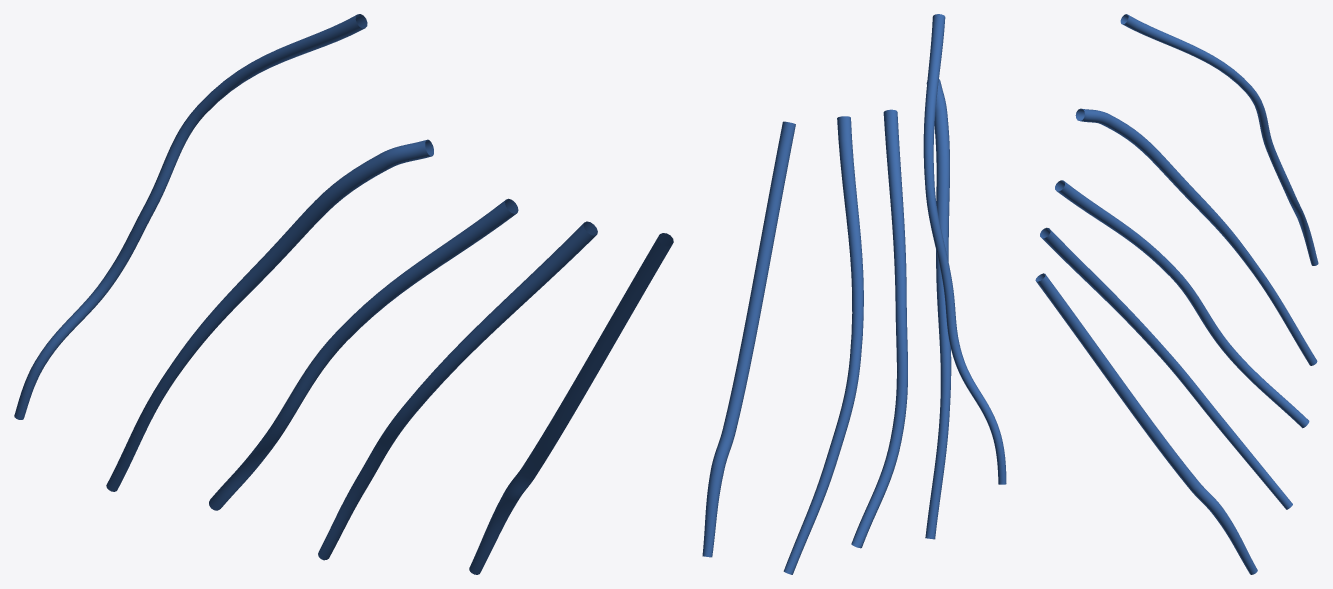
3 views of the same model, side by side, from view 1: azimuth 30°, elevation 25°; view 2: azimuth 150°, elevation 25°; view 3: azimuth 270°, elevation 25° (orthographic). The views are drawn at different scales.
Visible parts, largest first — view 1: 右侧跖背静脉; view 2: 右侧跖背静脉; view 3: 右侧跖背静脉.
Part boxes in pixels (left/top/right/bottom): 右侧跖背静脉: left=14, top=14, right=673, bottom=574; 右侧跖背静脉: left=702, top=14, right=1006, bottom=574; 右侧跖背静脉: left=1035, top=14, right=1318, bottom=574.
Size of the model in its own units: 0.09 by 0.1233 by 0.0649.
